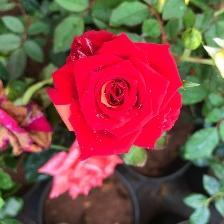rose: (46, 29, 186, 161)
